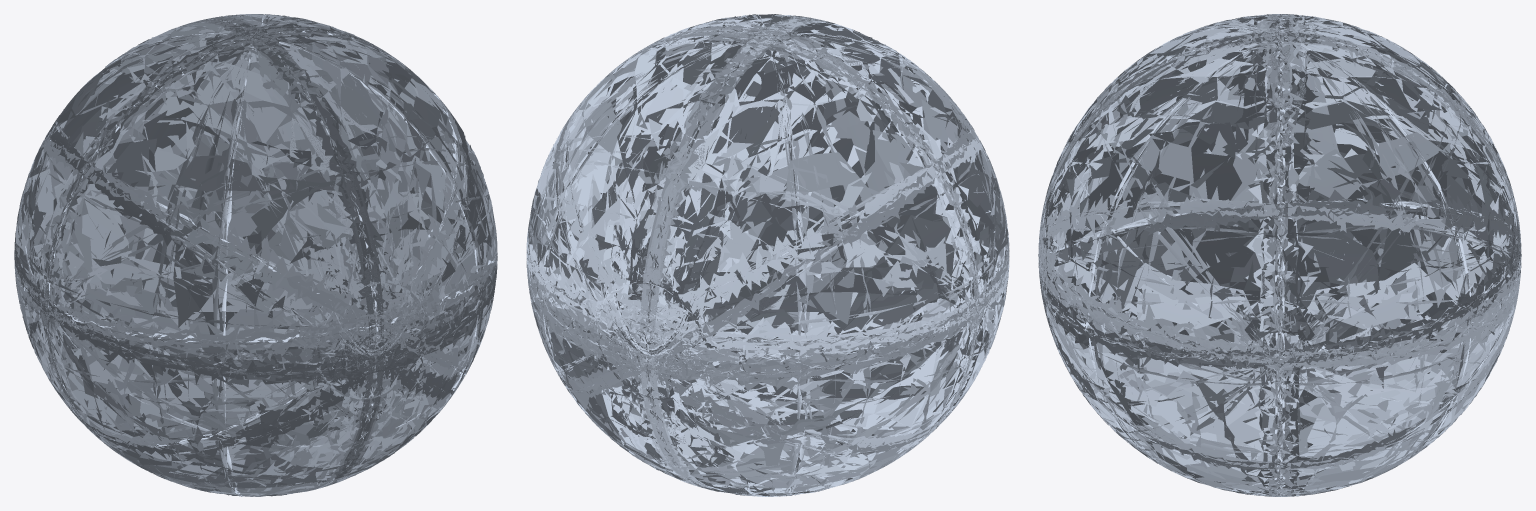
Rendered from structure.glb.
The picture shows the model from 3 angles, left to right: view 1: azimuth 30°, elevation 25°; view 2: azimuth 150°, elevation 25°; view 3: azimuth 270°, elevation 25°; orthographic projection.
Parts seen in each view (by area): view 1: structure; view 2: structure; view 3: structure.
Boxes of the visible parts, left/top/right/bottom form: structure: left=14, top=14, right=497, bottom=496; structure: left=526, top=14, right=1009, bottom=496; structure: left=1038, top=14, right=1521, bottom=496.
Size of the model in its own units: 2 by 2 by 2.
